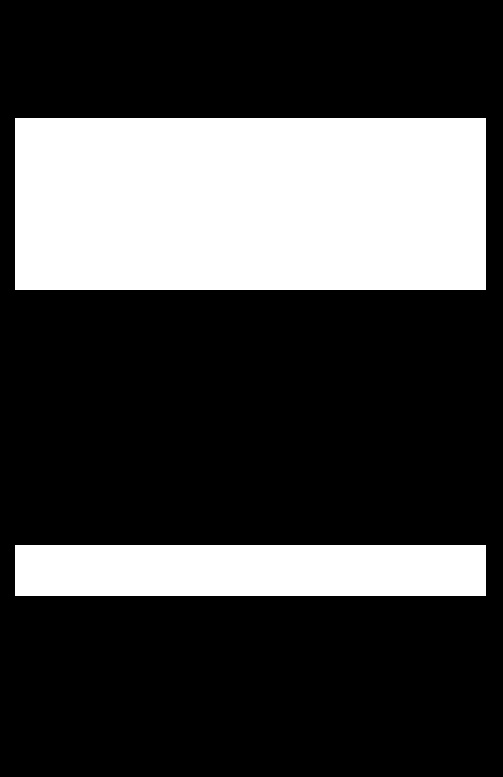table: (15, 118, 485, 289), (15, 545, 485, 595)
